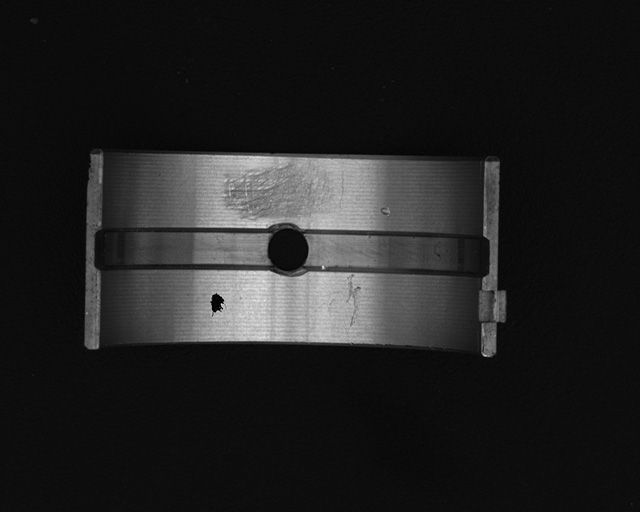blot: (209, 292, 226, 319)
bruise: (379, 206, 392, 217)
gap: (301, 227, 487, 279), (94, 227, 274, 272)
hole: (267, 223, 310, 278)
nick: (345, 273, 362, 329)
scratch: (221, 158, 336, 219)
